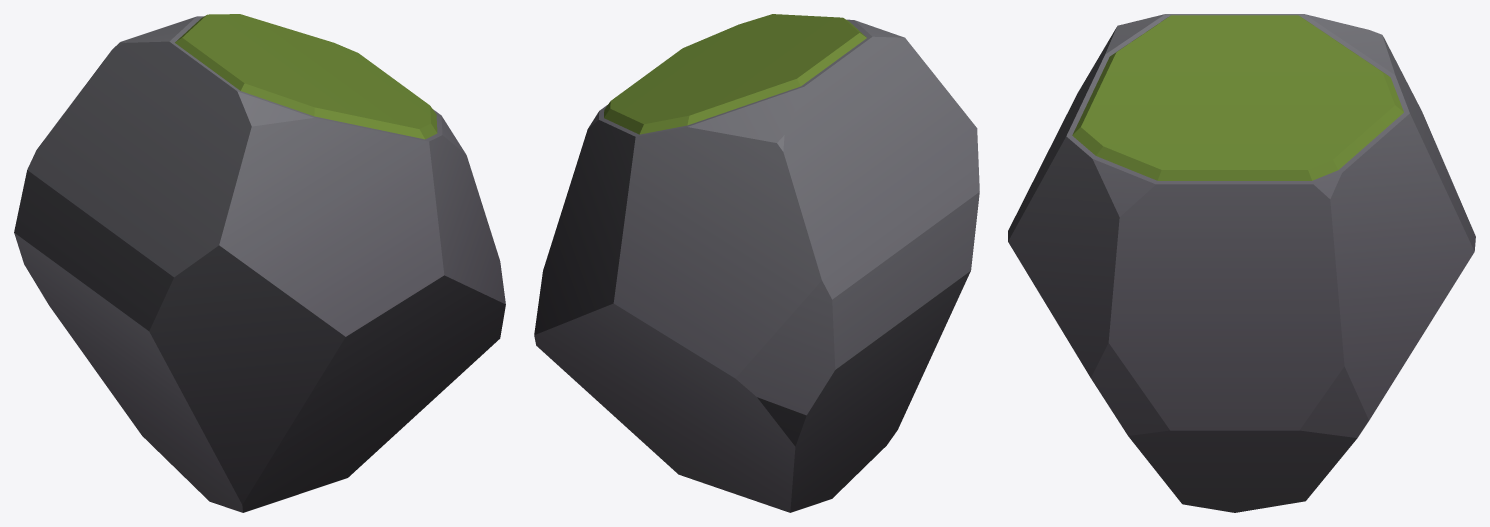
The model's file is Rock_07.glb.
3 renders of one model, left to right at view 1: azimuth 30°, elevation 25°; view 2: azimuth 150°, elevation 25°; view 3: azimuth 270°, elevation 25°, orthographic. The views are drawn at different scales.
Visible parts, largest first — view 1: Rock_07_LOD0; view 2: Rock_07_LOD0; view 3: Rock_07_LOD0.
Part boxes in pixels (x1,y1,x2,y2): Rock_07_LOD0: (14,14,505,512); Rock_07_LOD0: (534,14,979,512); Rock_07_LOD0: (1008,14,1475,512).
Size of what is drawn, in the model's own units: 0.9708 by 1.18 by 1.11.
Materials: 1 (1 with a texture image).
